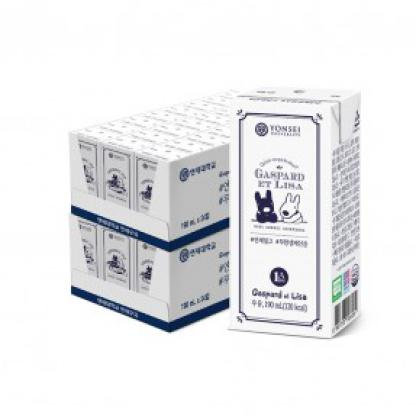tetra: (218, 70, 388, 346)
